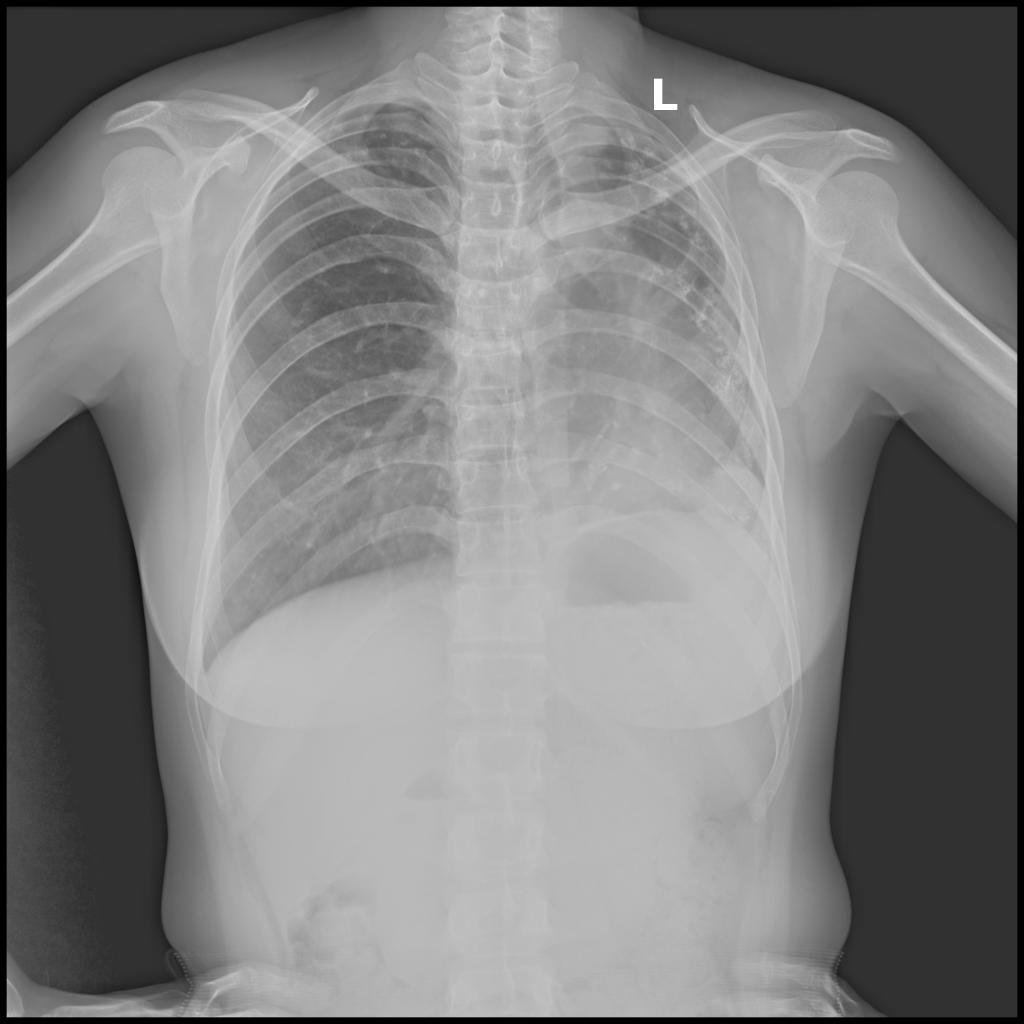Nodule: (697, 470, 760, 530)
